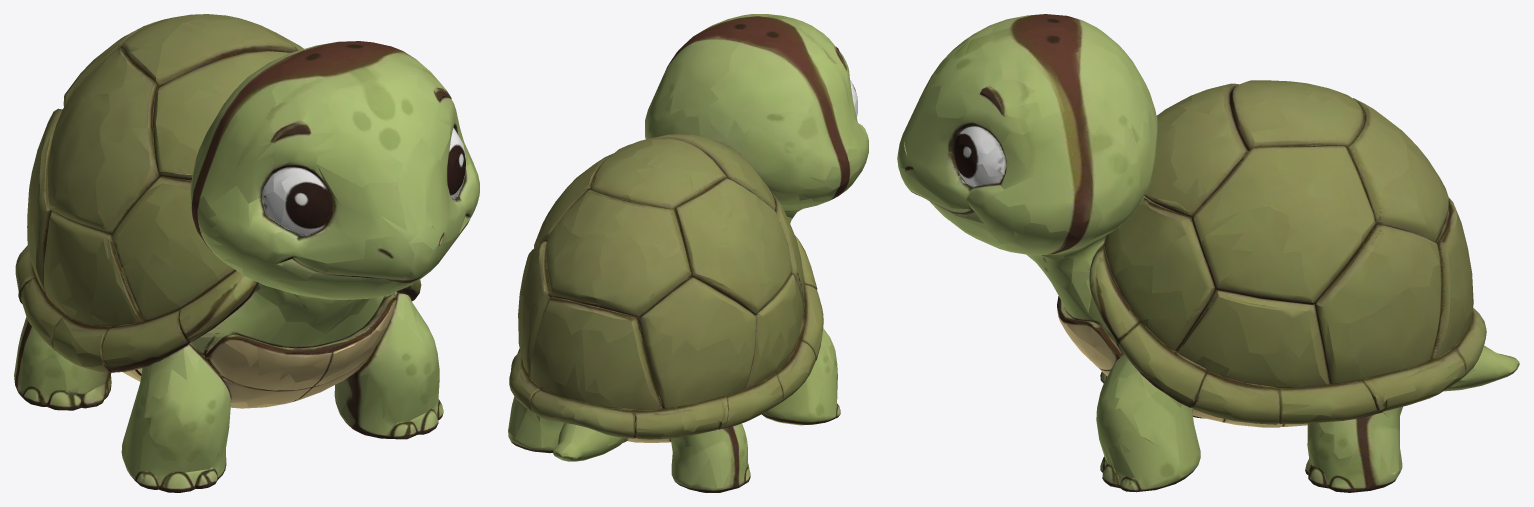
File: pet_shelly.glb
3 renders of one model, left to right at view 1: azimuth 30°, elevation 25°; view 2: azimuth 150°, elevation 25°; view 3: azimuth 270°, elevation 25°, orthographic. The views are drawn at different scales.
Bounding box in the file's own units: 1.05 × 1.35 × 1.9.
1 material, 1 textured.
